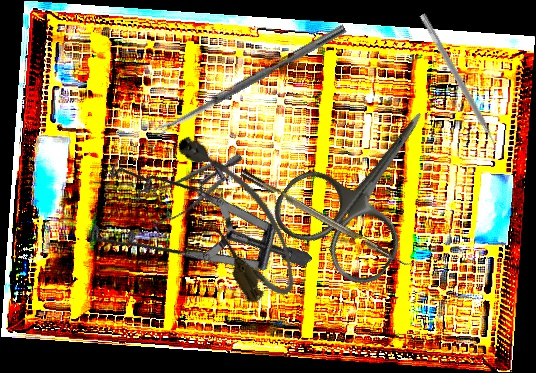Cannula: (164, 117, 310, 312)
Chopper: (239, 160, 420, 275)
Iris Scissors: (264, 75, 473, 295)
Spatula Surgical: (412, 12, 504, 156)
Speculum: (62, 107, 313, 362), (123, 117, 244, 250)
Surgical Spoon: (153, 23, 347, 137)
